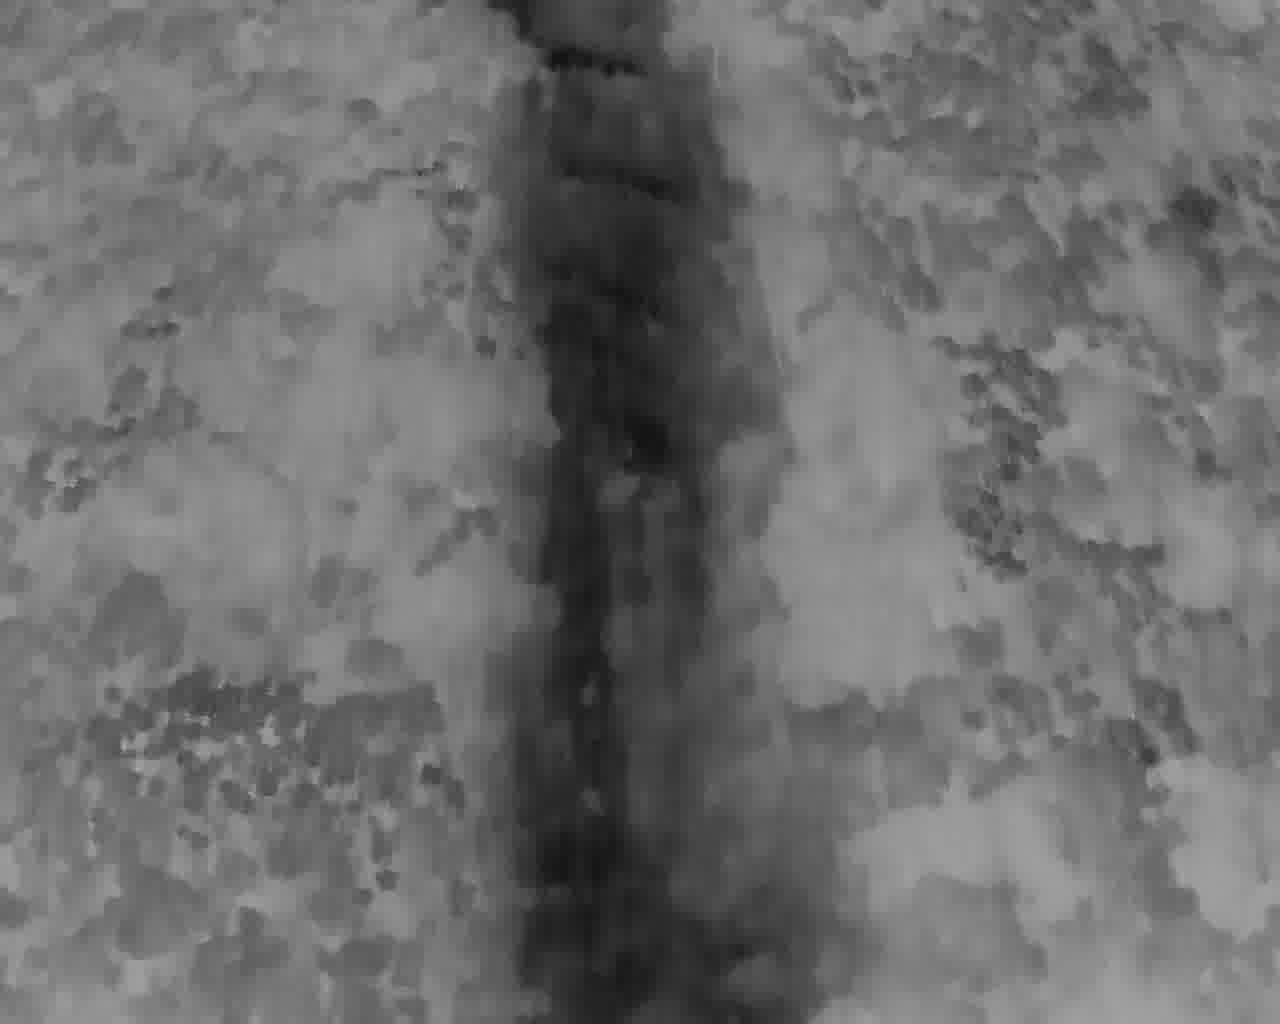car: (875, 0, 990, 63)
